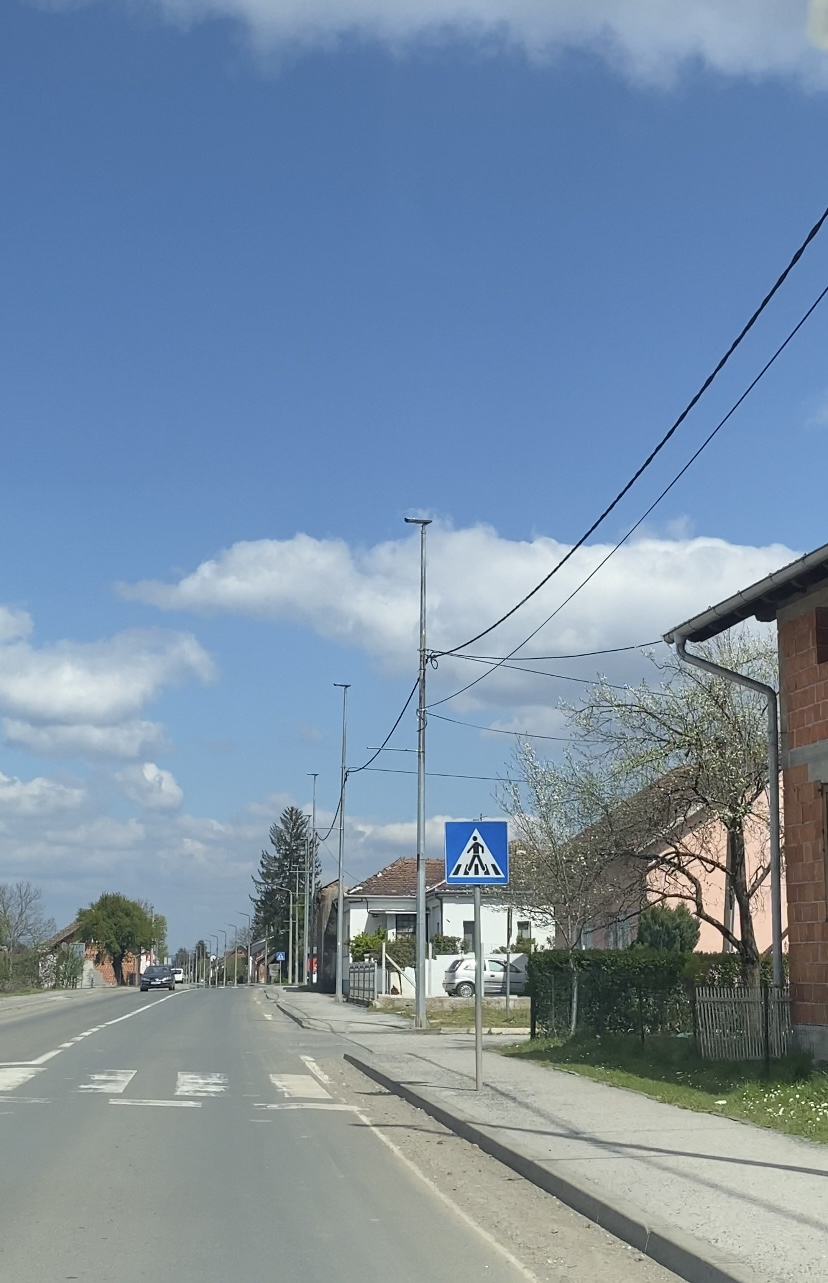Pješački prijelaz: (445, 822, 509, 884)
